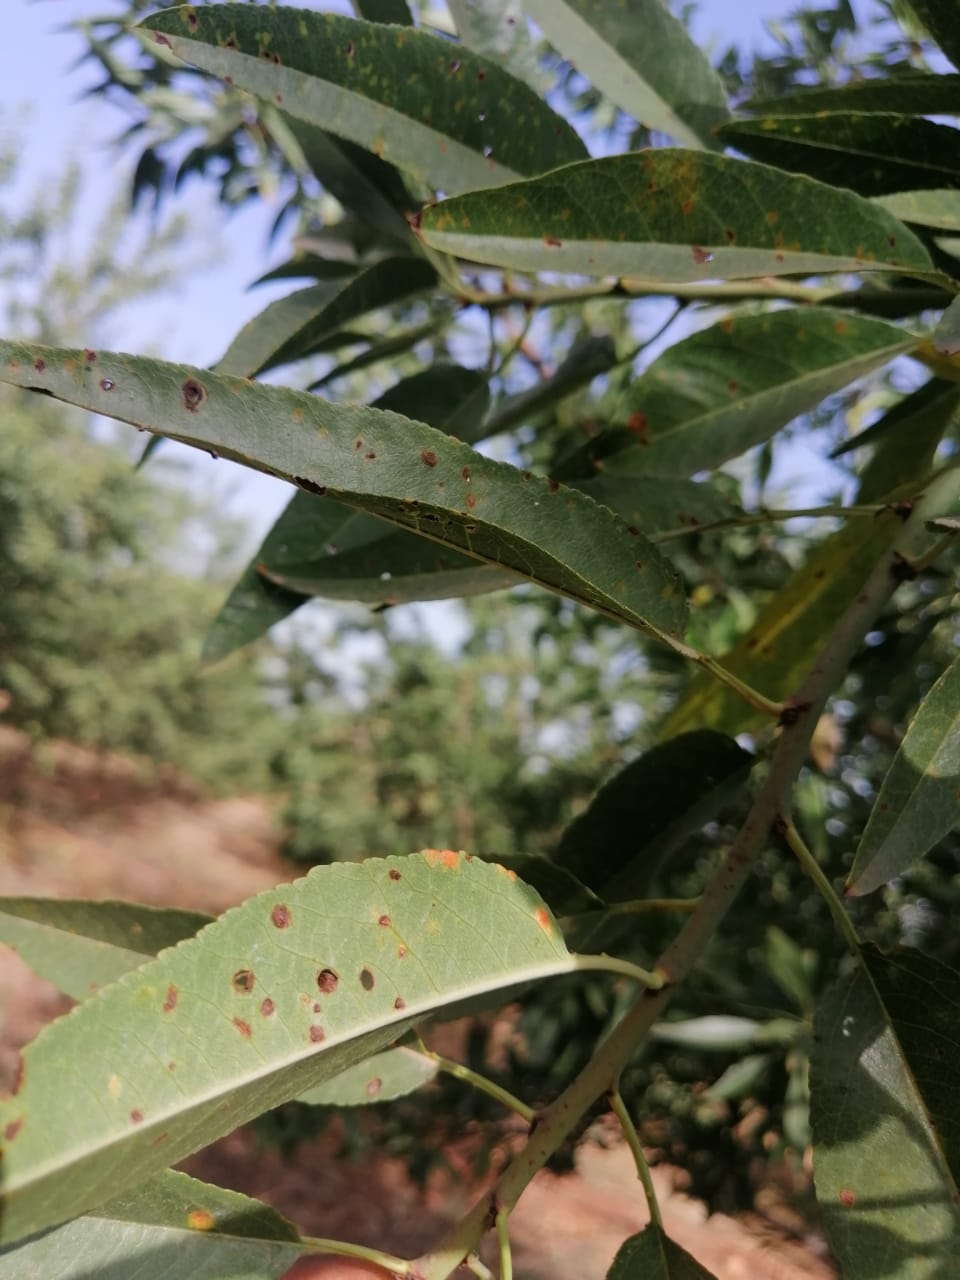coryneum: (1, 848, 575, 1248), (1, 341, 690, 650), (128, 3, 595, 196), (405, 148, 940, 281)
